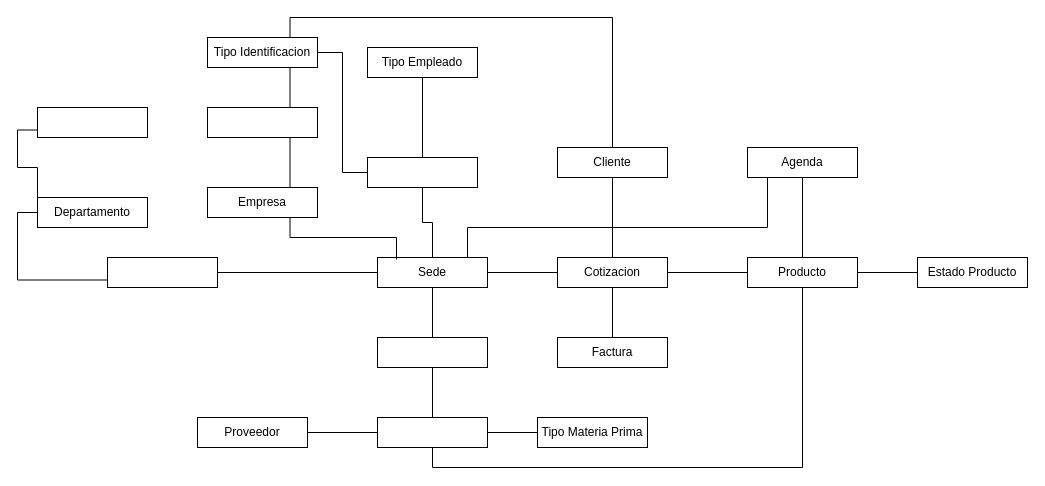
This 1045x486 diagram has some shape labels left out. Each missing label, with the box of its shape:
Ciudad: (106, 256, 218, 288)
Dueño: (206, 106, 318, 138)
Empleado: (366, 156, 478, 188)
Inventario: (376, 336, 488, 368)
Materia Prima: (376, 416, 488, 448)
Pais: (36, 106, 148, 138)
